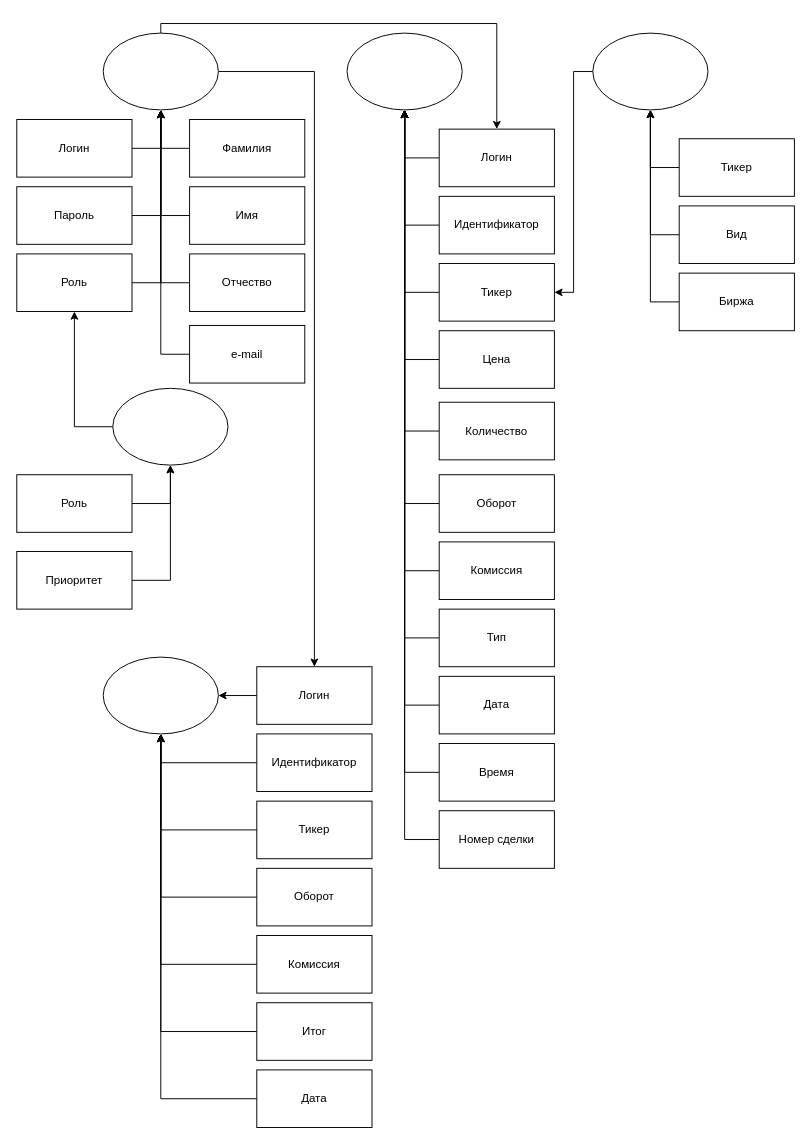
Image size: 811x1144. Some labels were removed from this diagram. The shapes that lost their labels are listed below. From the top down, each one's centre as x and y in pixels, then its label:
(x=160, y=71): Пользователи
(x=404, y=71): Операции
(x=650, y=71): Тикеры
(x=170, y=426): Роли
(x=160, y=695): Сделки
